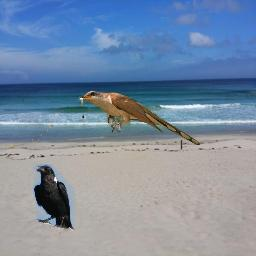Crow: (33, 164, 75, 231)
Cuckoo: (76, 90, 201, 145)
